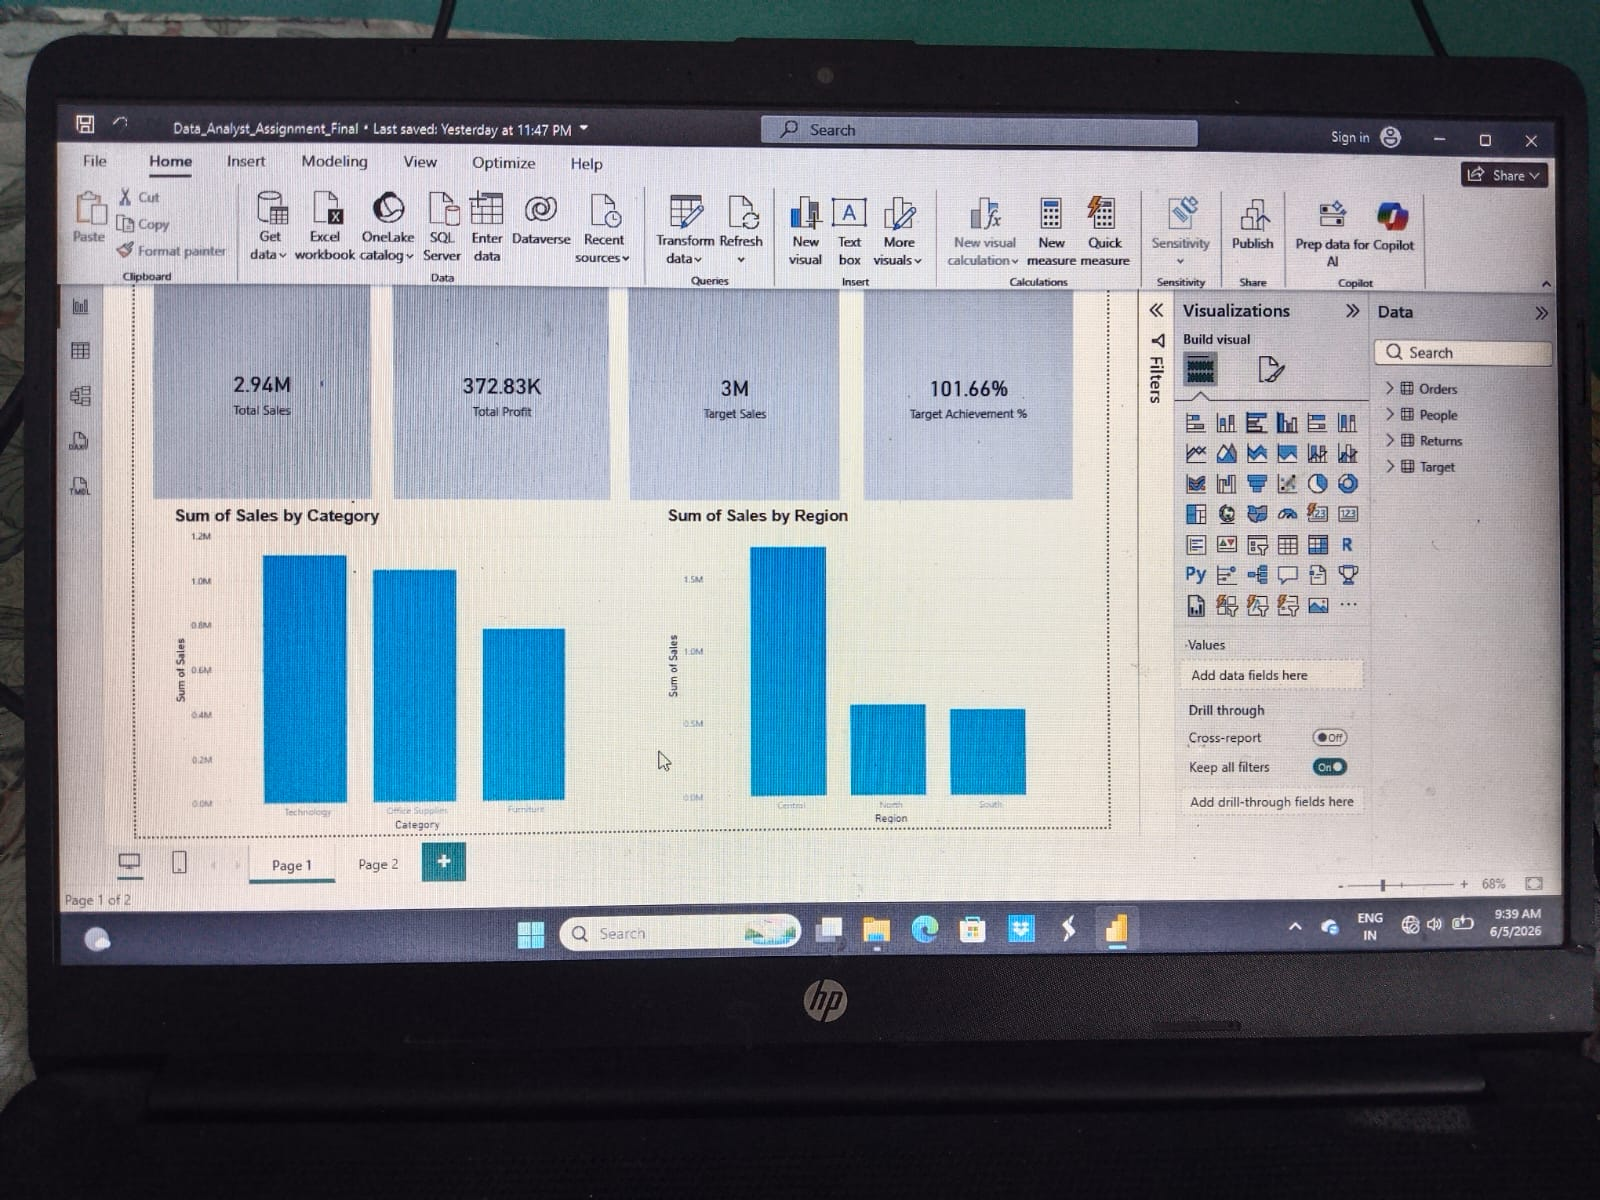

The page's visual inventory and layout, read from the dashboard file:
{"tool":"powerbi","page":{"name":"Page 1","canvas":[1280,720],"ordinal":0},"visuals":[{"type":"card","fields":{"Values":["Target.Total Sales"]},"box":[24.9,0,281,281],"z":0},{"type":"card","fields":{"Values":["Target.Total Profit"]},"box":[333.7,0,281,281],"z":1000},{"type":"card","fields":{"Values":["Target.Target Sales"]},"box":[639.5,0,281,281],"z":2000},{"type":"card","fields":{"Values":["Target.Target Achievement %"]},"box":[952.7,0,281,281],"z":3000},{"type":"clusteredColumnChart","fields":{"Category":["Orders.Category"],"Y":["Sum(Orders.Sales)"]},"box":[47,290.6,574.5,430],"z":4000},{"type":"clusteredColumnChart","fields":{"Category":["Orders.Region"],"Y":["Sum(Orders.Sales)"]},"box":[683.4,289.8,550.2,430.2],"z":5000}]}

Visuals, with their boxes on the page's 1280x720 design canvas (x1, y1, x2, y2). These are canvas units, not pixel positions in the 1600x1200 screenshot, which may show the page scaled, cropped or inside an application window:
card - Target.Total Sales: l=25, t=0, r=306, b=281
card - Target.Total Profit: l=334, t=0, r=615, b=281
card - Target.Target Sales: l=640, t=0, r=920, b=281
card - Target.Target Achievement %: l=953, t=0, r=1234, b=281
clusteredColumnChart - Orders.Category x Sum(Orders.Sales): l=47, t=291, r=622, b=721
clusteredColumnChart - Orders.Region x Sum(Orders.Sales): l=683, t=290, r=1234, b=720
